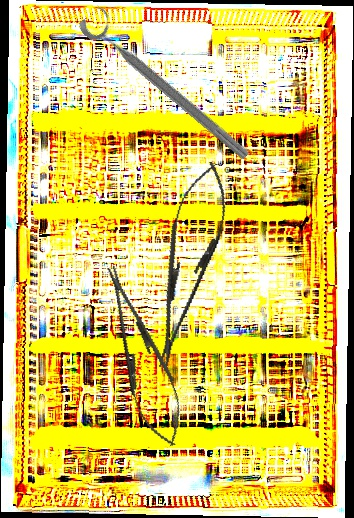Fixation Ring: (75, 1, 262, 165)
Needle Holder: (136, 156, 239, 374), (89, 259, 196, 453)
